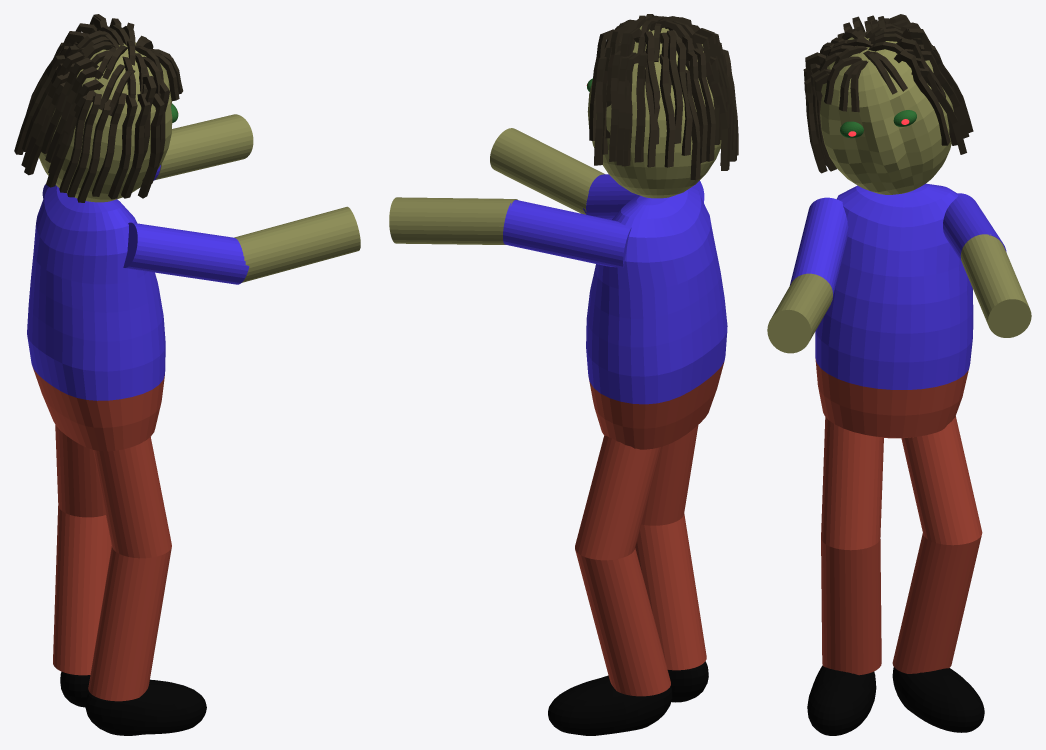
File: Zombie.fbx
3 renders of one model, left to right at view 1: azimuth 30°, elevation 25°; view 2: azimuth 150°, elevation 25°; view 3: azimuth 270°, elevation 25°, orthographic.
Parts seen in each view (by area): view 1: Sphere, Cylinder.004, Cylinder.005, Cylinder.002, Cylinder.003, Sphere.003, Head, Cylinder.001, Cube.007, Cube.053, Cube.010, Cube.048 (+11 smaller); view 2: Sphere, Cylinder.005, Cylinder.004, Cylinder, Cylinder.001, Head, Cylinder.003, Sphere.004, Cylinder.002, Sphere.003, Cube.030, Cube.004 (+14 smaller); view 3: Sphere, Cylinder.004, Cylinder.005, Head, Cylinder.001, Sphere.004, Sphere.003, Cylinder.002, Cylinder.003, Cylinder, Cube, Cube.010 (+7 smaller).
Part boxes in pixels (left/top/right/bottom): Sphere: left=27, top=185, right=165, bottom=451; Cylinder.004: left=88, top=437, right=171, bottom=701; Cylinder.005: left=53, top=425, right=111, bottom=675; Cylinder.002: left=123, top=222, right=249, bottom=284; Cylinder.003: left=234, top=206, right=360, bottom=282; Sphere.003: left=85, top=679, right=206, bottom=735; Head: left=39, top=42, right=172, bottom=202; Cylinder.001: left=155, top=114, right=253, bottom=179; Cube.007: left=121, top=93, right=150, bottom=198; Cube.053: left=108, top=95, right=137, bottom=199; Cube.010: left=138, top=93, right=164, bottom=198; Cube.048: left=40, top=57, right=98, bottom=153; Sphere: left=586, top=186, right=727, bottom=449; Cylinder.005: left=575, top=436, right=670, bottom=696; Cylinder.004: left=635, top=425, right=706, bottom=670; Cylinder: left=503, top=200, right=631, bottom=268; Cylinder.001: left=389, top=197, right=517, bottom=244; Head: left=587, top=26, right=721, bottom=198; Cylinder.003: left=490, top=128, right=604, bottom=214; Sphere.004: left=548, top=675, right=672, bottom=735; Cylinder.002: left=583, top=174, right=704, bottom=219; Sphere.003: left=667, top=661, right=708, bottom=702; Cube.030: left=659, top=54, right=675, bottom=167; Cube.004: left=634, top=50, right=654, bottom=162; Sphere: left=815, top=183, right=973, bottom=438; Cylinder.004: left=821, top=417, right=883, bottom=675; Cylinder.005: left=892, top=416, right=982, bottom=673; Head: left=820, top=32, right=953, bottom=194; Cylinder.001: left=960, top=234, right=1031, bottom=337; Sphere.004: left=892, top=667, right=984, bottom=732; Sphere.003: left=807, top=665, right=876, bottom=735; Cylinder.002: left=789, top=197, right=848, bottom=308; Cylinder.003: left=767, top=273, right=832, bottom=353; Cylinder: left=943, top=193, right=1006, bottom=261; Cube: left=894, top=50, right=950, bottom=145; Cube.010: left=804, top=77, right=827, bottom=173.
Bounding box in the file's own units: 461 × 1085 × 379.
